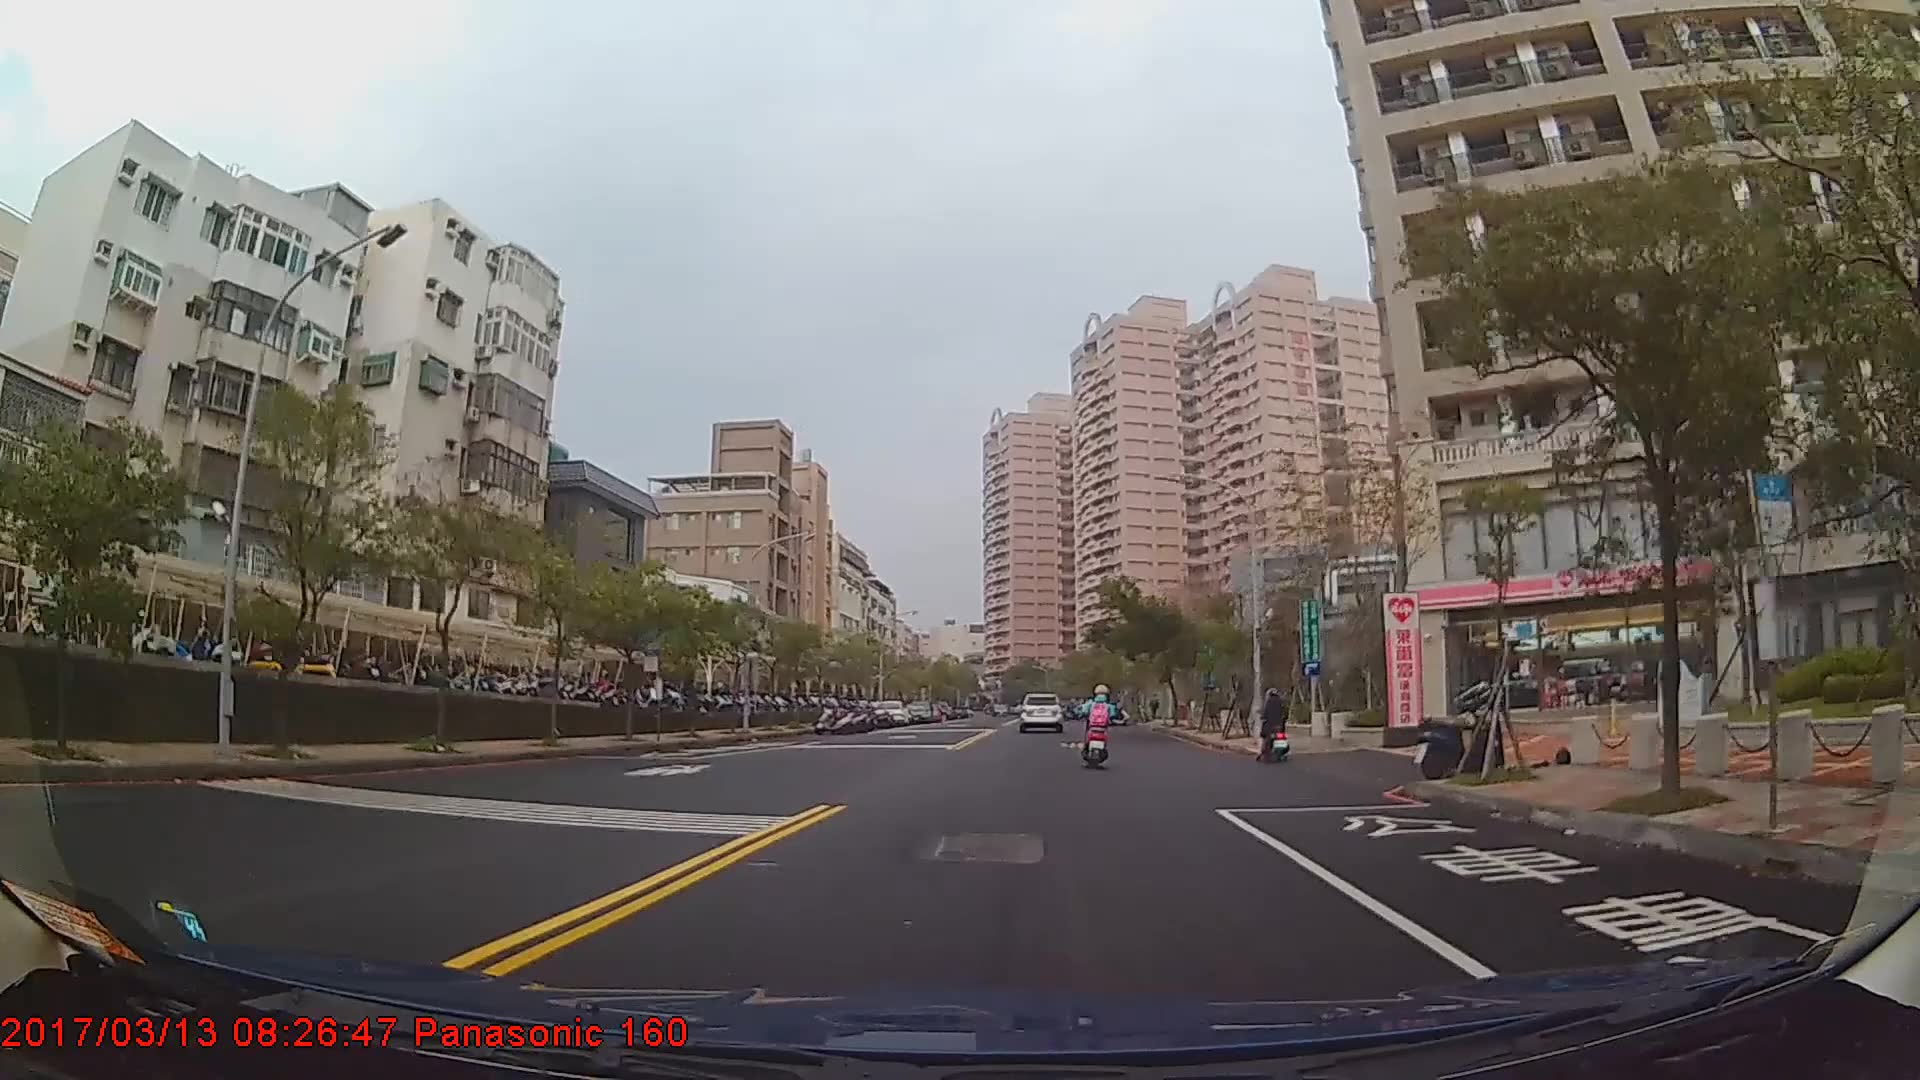rider: (1078, 680, 1118, 764), (1256, 687, 1292, 762)
vehicle: (1015, 690, 1066, 730), (871, 695, 906, 722)
